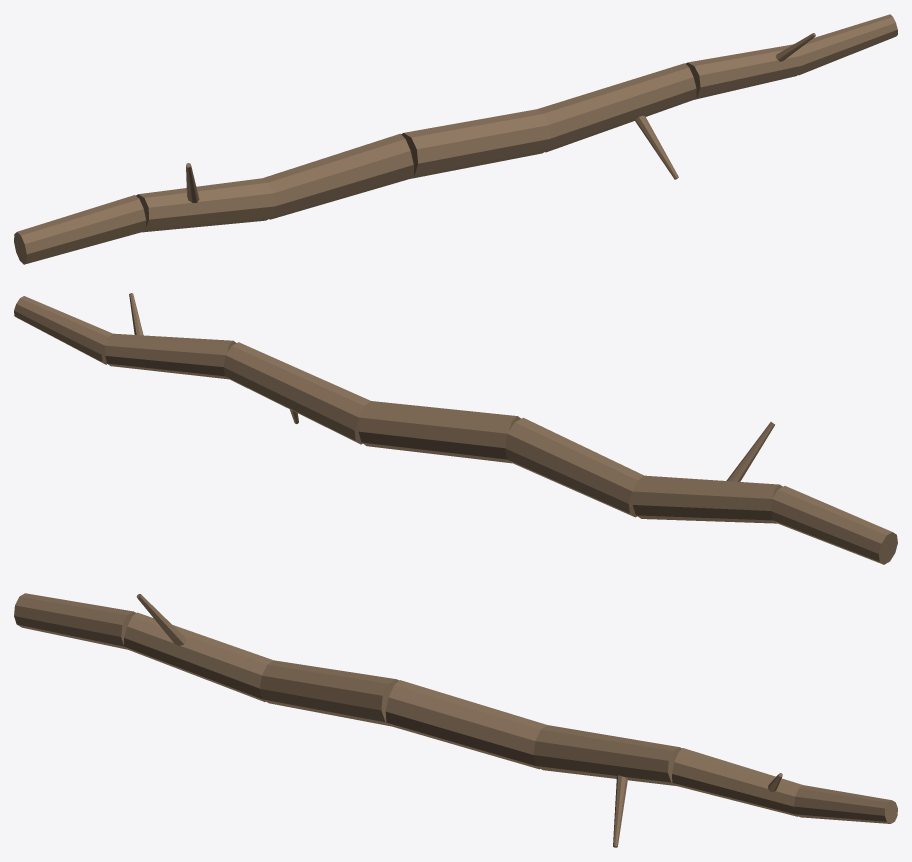
Rendered from dead_ground_stick_vr_thin.glb.
3 views of the same model, one above another, from view 1: azimuth 30°, elevation 25°; view 2: azimuth 150°, elevation 25°; view 3: azimuth 330°, elevation 25° (orthographic).
Parts seen in each view (by area): view 1: DeadStick; view 2: DeadStick; view 3: DeadStick.
Part boxes in pixels (x1,y1,x2,y2): DeadStick: (14,14,897,264); DeadStick: (14,293,897,564); DeadStick: (14,593,897,847).
Size of the model in its own units: 0.9242 by 0.1282 by 0.087.
